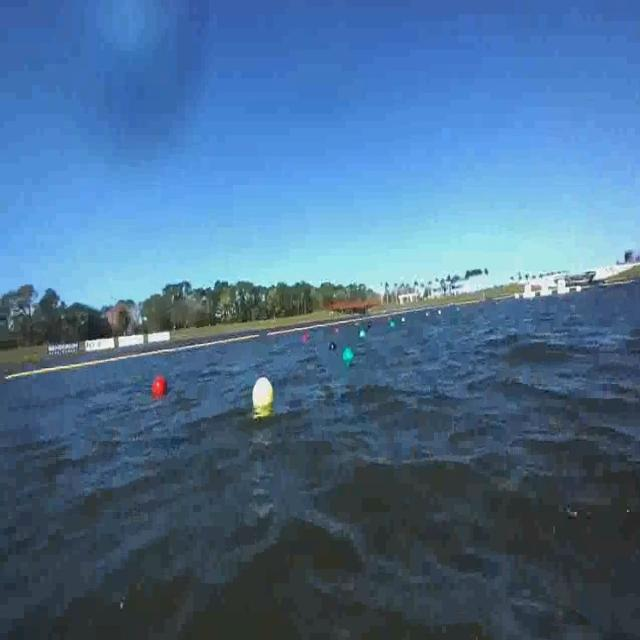black-buoy: (328, 342, 335, 352)
green-buoy: (344, 348, 354, 364)
red-buoy: (154, 376, 170, 399)
yellow-buoy: (255, 376, 276, 408)
